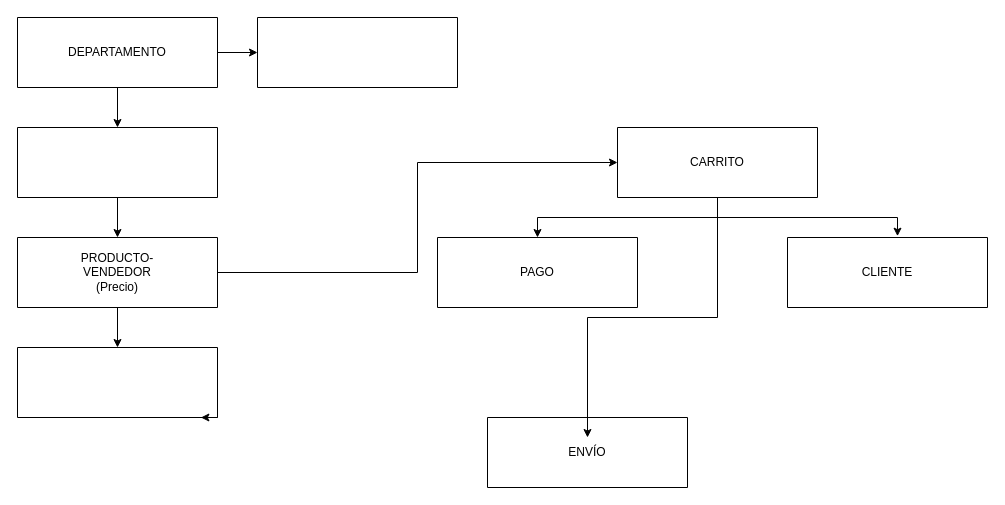
The diagram is 1005 pixels wide and 505 high, and some of its shapes have lost their labels. Each missing label, with the centre of its shape:
ALMACÉN: (357,52)
PRODUCTO: (117,162)
VENDEDOR: (117,382)
